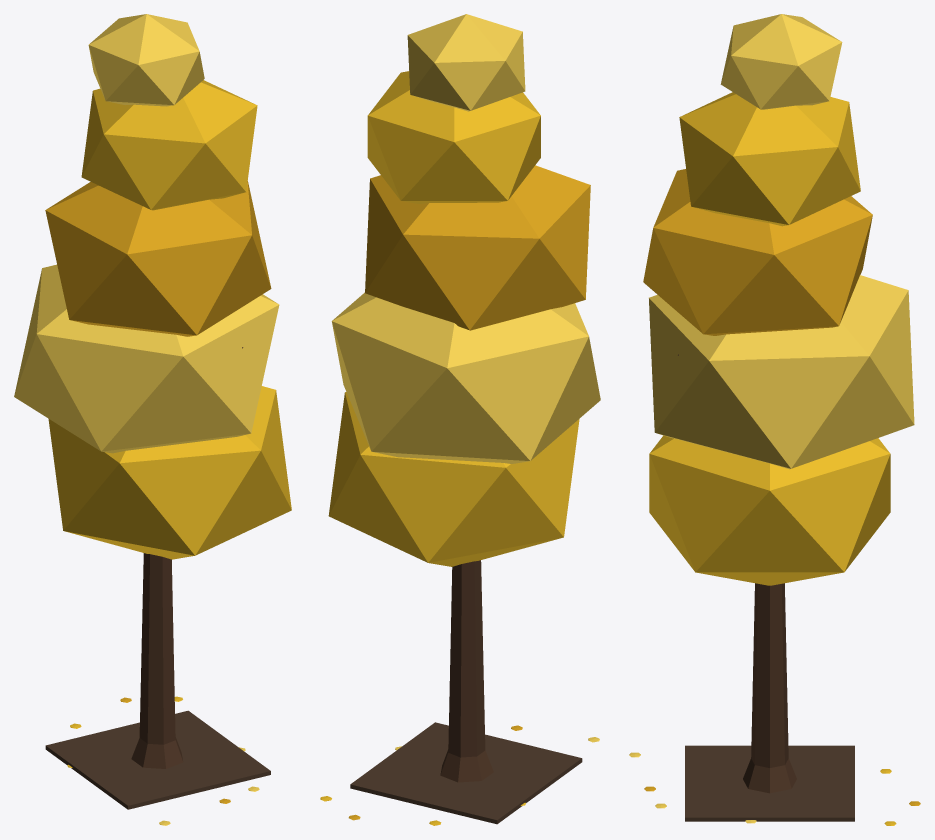
Rendered from tree_ginkgo.glb.
The picture shows the model from 3 angles, left to right: view 1: azimuth 30°, elevation 25°; view 2: azimuth 150°, elevation 25°; view 3: azimuth 270°, elevation 25°; orthographic projection. The views are drawn at different scales.
Parts seen in each view (by area): view 1: tree_ginkgo; view 2: tree_ginkgo; view 3: tree_ginkgo.
Part boxes in pixels (x1,y1,x2,y2): tree_ginkgo: (14, 14, 291, 825); tree_ginkgo: (320, 14, 600, 825); tree_ginkgo: (629, 14, 920, 825).
Size of the model in its own units: 2.5 by 7.48 by 2.57.
